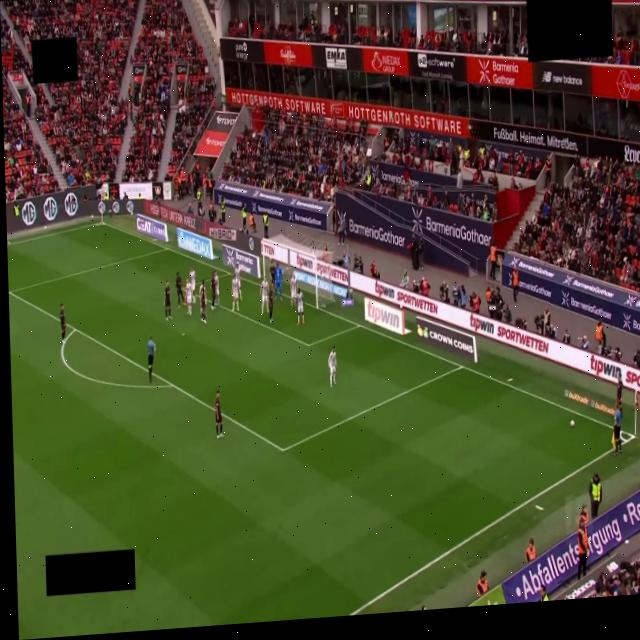ball: (571, 421, 575, 427)
player: (215, 391, 223, 439), (328, 346, 336, 386), (200, 280, 207, 323), (275, 264, 283, 300), (176, 273, 184, 308), (261, 277, 268, 316), (296, 290, 304, 324), (232, 277, 240, 311), (164, 281, 171, 319), (290, 273, 297, 309), (60, 304, 66, 345), (189, 267, 196, 302), (234, 265, 241, 300), (210, 271, 216, 311), (616, 371, 623, 404), (214, 270, 220, 308), (186, 283, 193, 315), (268, 284, 273, 324), (210, 271, 215, 310), (269, 260, 276, 284)
referee: (614, 402, 622, 455), (147, 337, 156, 381)
